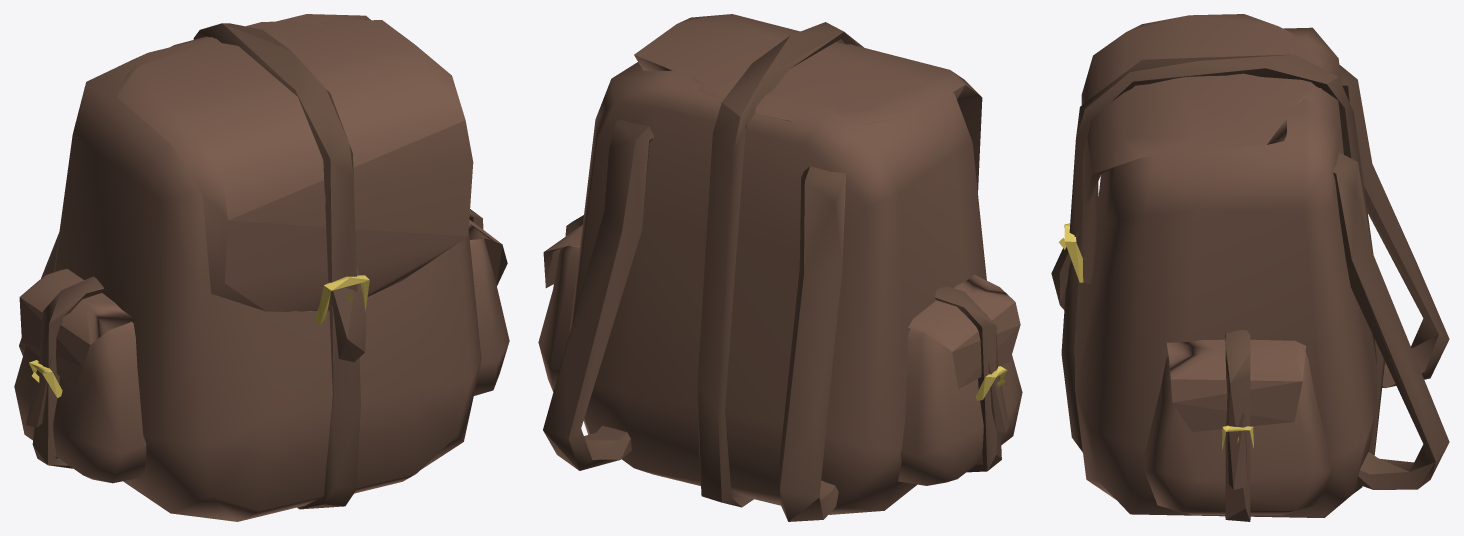
Rendered from backpack.glb.
The picture shows the model from 3 angles, left to right: view 1: azimuth 30°, elevation 25°; view 2: azimuth 150°, elevation 25°; view 3: azimuth 270°, elevation 25°; orthographic projection. The views are drawn at different scales.
Visible parts, largest first — view 1: backpack; view 2: backpack; view 3: backpack.
Part boxes in pixels (left/top/right/bottom): backpack: left=14, top=14, right=509, bottom=521; backpack: left=538, top=14, right=1022, bottom=521; backpack: left=1051, top=14, right=1449, bottom=521.
Bounding box in the file's own units: 0.4505 × 0.3997 × 0.3414.
